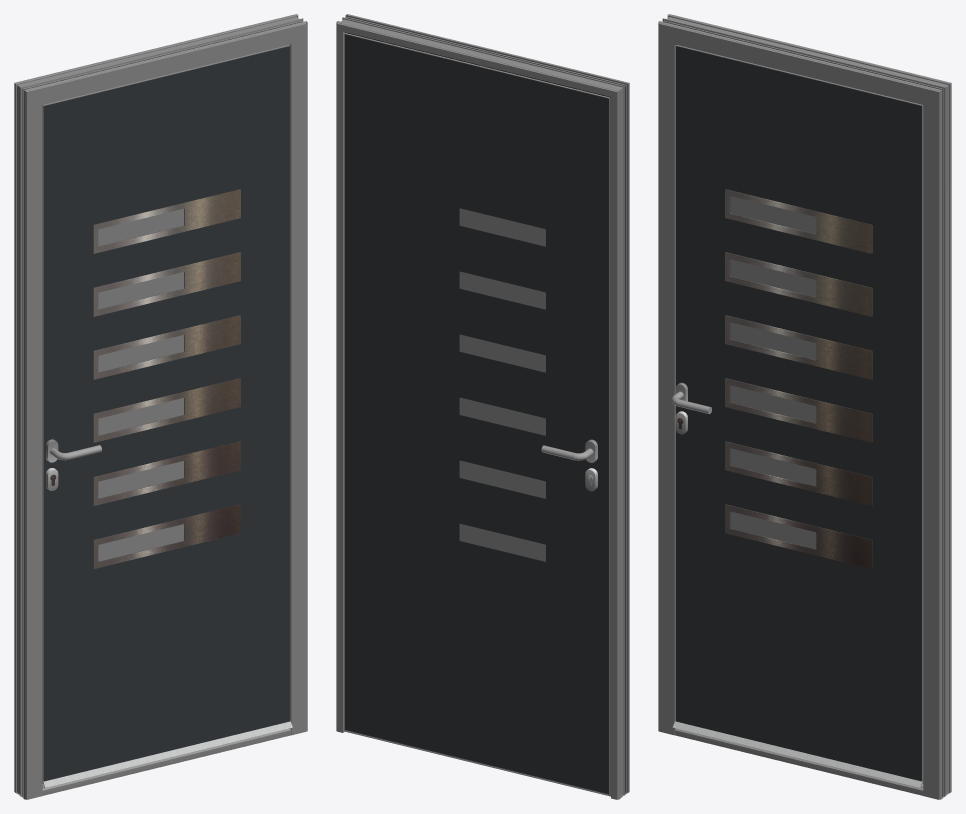
The picture shows the model from 3 angles, left to right: view 1: azimuth 30°, elevation 25°; view 2: azimuth 150°, elevation 25°; view 3: azimuth 330°, elevation 25°; orthographic projection.
Parts seen in each view (by area): view 1: bloco_8, aroFixo, alunox_6, Box001, aroMovel, rodapé, escovas, puxador001; view 2: bloco_8, aroFixo, Box002, aroMovel, puxador; view 3: bloco_8, aroFixo, alunox_6, Box001, aroMovel, rodapé, escovas, puxador001.
Boxes of the visible parts, left/top/right/bottom form: bloco_8: left=44, top=46, right=289, bottom=781; aroFixo: left=14, top=14, right=307, bottom=799; alunox_6: left=93, top=189, right=240, bottom=568; Box001: left=98, top=208, right=184, bottom=561; aroMovel: left=42, top=45, right=290, bottom=783; rodapé: left=42, top=728, right=290, bottom=795; escovas: left=42, top=721, right=292, bottom=787; puxador001: left=46, top=439, right=101, bottom=491; bloco_8: left=345, top=34, right=608, bottom=793; aroFixo: left=336, top=14, right=629, bottom=799; Box002: left=459, top=208, right=545, bottom=561; aroMovel: left=344, top=32, right=610, bottom=795; puxador: left=541, top=439, right=597, bottom=491; bloco_8: left=676, top=46, right=921, bottom=781; aroFixo: left=658, top=14, right=951, bottom=799; alunox_6: left=725, top=189, right=872, bottom=568; Box001: left=730, top=196, right=816, bottom=548; aroMovel: left=675, top=45, right=923, bottom=783; rodapé: left=675, top=728, right=923, bottom=795; escovas: left=672, top=721, right=923, bottom=787; puxador001: left=671, top=382, right=711, bottom=434.
Size of the model in its own units: 898 by 2151 by 209.
10 materials, 5 textured.
